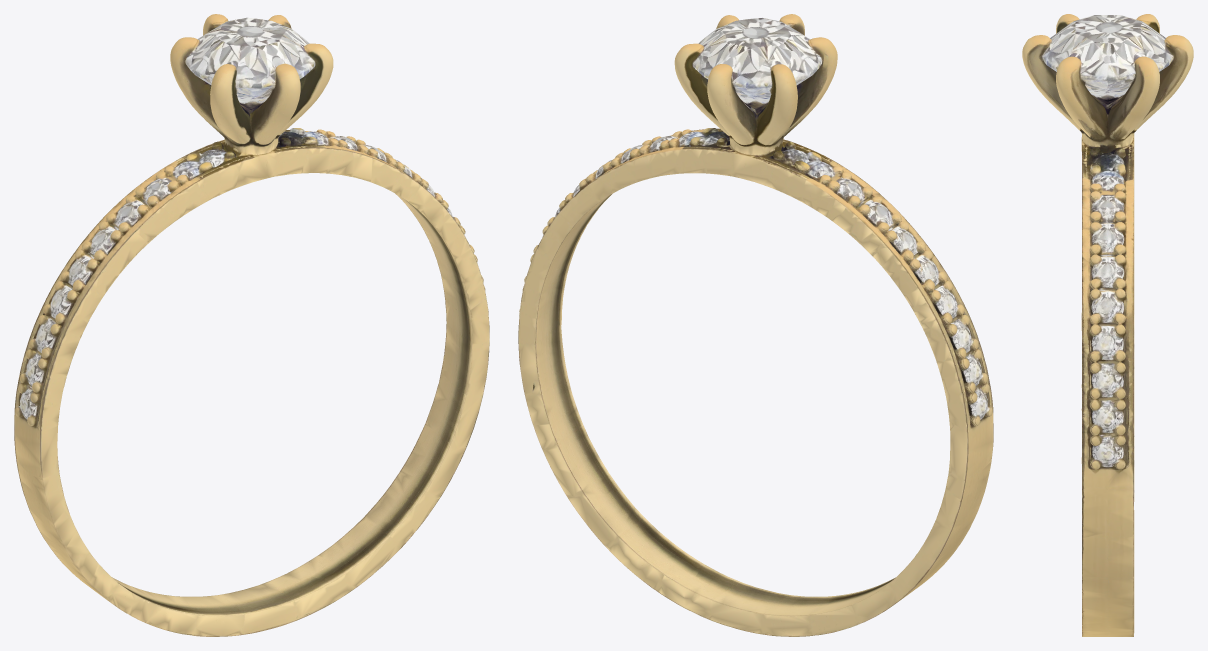
The model's file is anel-hd.glb.
The picture shows the model from 3 angles, left to right: view 1: azimuth 30°, elevation 25°; view 2: azimuth 150°, elevation 25°; view 3: azimuth 270°, elevation 25°; orthographic projection.
Size of the model in its own units: 1.55 by 1.9 by 0.5046.
Materials: 1 (1 with a texture image).
